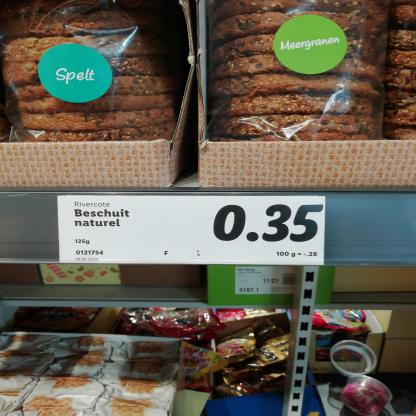prtg: (58, 197, 326, 266)
